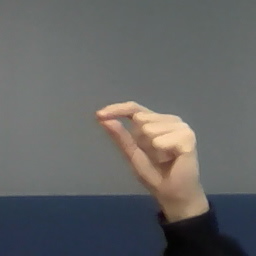S: (93, 100, 207, 197)
